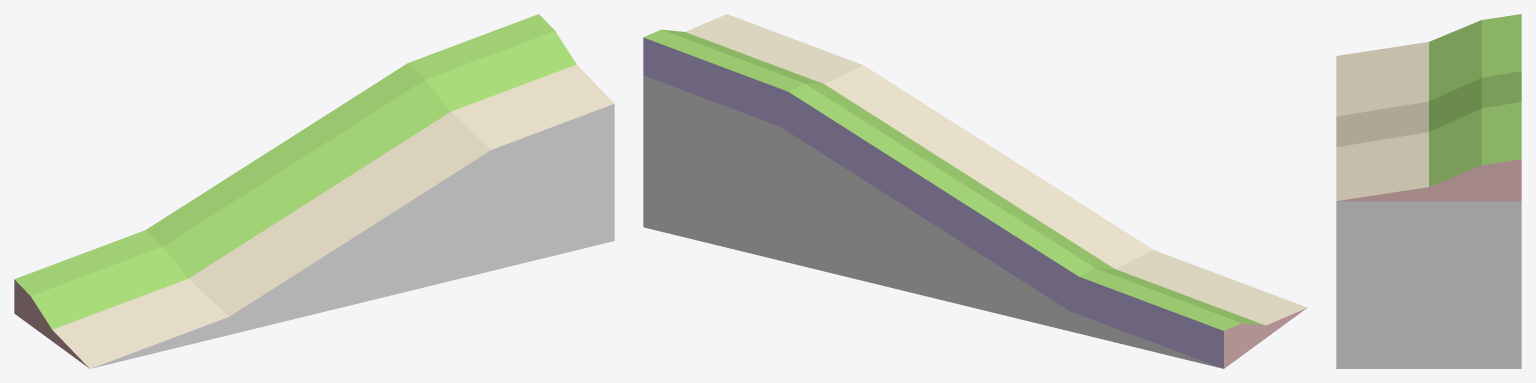
File: Path_Terrain_Incline_Gentle_Edge_1x4.fbx
3 views of the same model, side by side, from view 1: azimuth 30°, elevation 25°; view 2: azimuth 150°, elevation 25°; view 3: azimuth 270°, elevation 25° (orthographic). The views are drawn at different scales.
Visible parts, largest first — view 1: Path_Terrain_Incline_Gentle_Edge_1x4; view 2: Path_Terrain_Incline_Gentle_Edge_1x4; view 3: Path_Terrain_Incline_Gentle_Edge_1x4.
Part boxes in pixels (x1,y1,x2,y2): Path_Terrain_Incline_Gentle_Edge_1x4: [14, 14, 614, 368]; Path_Terrain_Incline_Gentle_Edge_1x4: [643, 14, 1307, 368]; Path_Terrain_Incline_Gentle_Edge_1x4: [1336, 14, 1521, 368].
Bounding box in the file's own units: 400 × 125 × 100.
